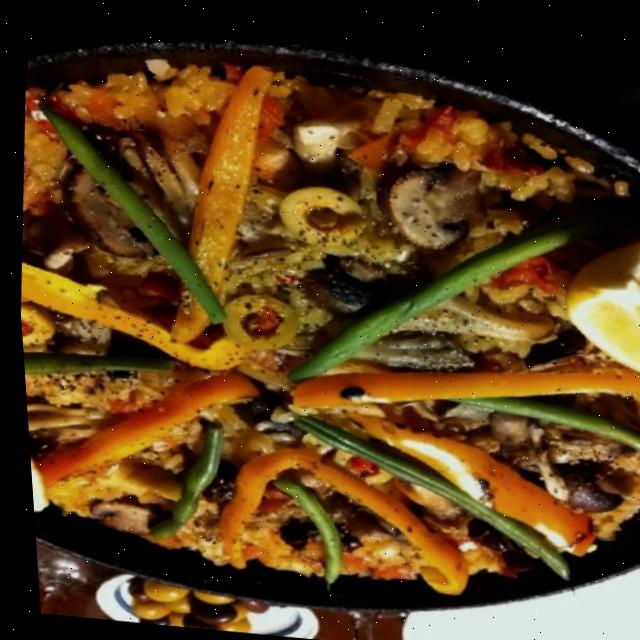面条主食: (1, 11, 640, 603)
